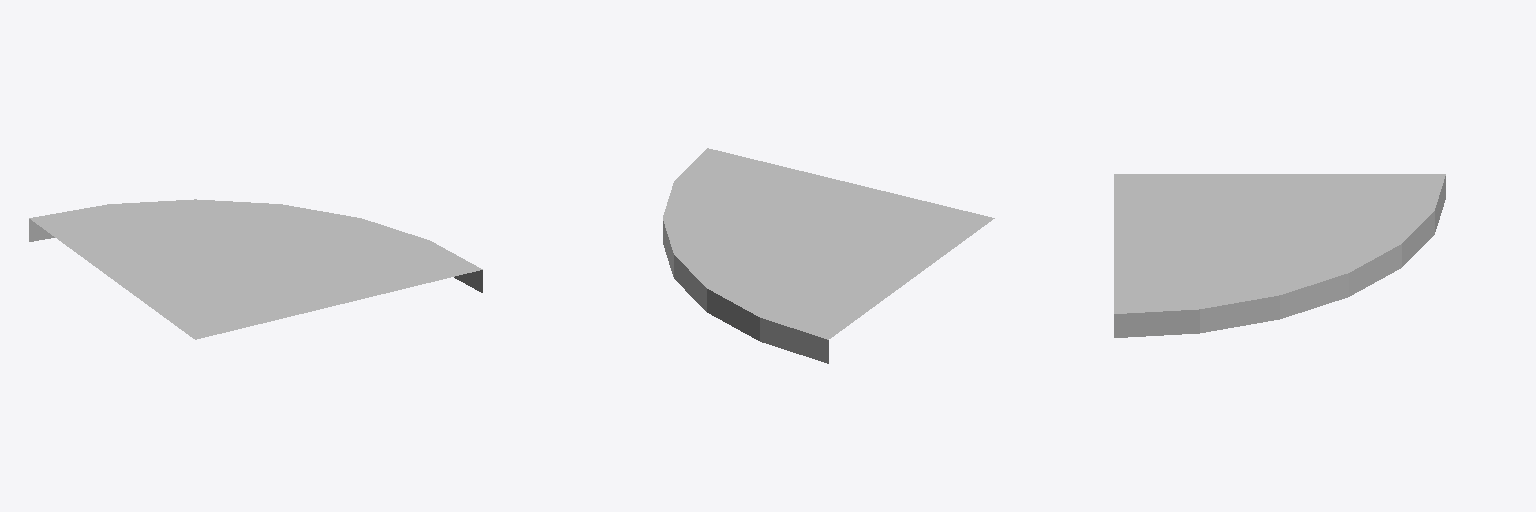
Rendered from BG_PIZZA_01.obj.
3 renders of one model, left to right at view 1: azimuth 30°, elevation 25°; view 2: azimuth 150°, elevation 25°; view 3: azimuth 270°, elevation 25°, orthographic.
Visible parts, largest first — view 1: pizza01; view 2: pizza01; view 3: pizza01.
Boxes of the visible parts, x1,y1,x2,y2 form: pizza01: [29, 199, 482, 339]; pizza01: [663, 148, 994, 363]; pizza01: [1114, 174, 1445, 337].
Bounding box in the file's own units: 78.42 × 6.27 × 78.42.